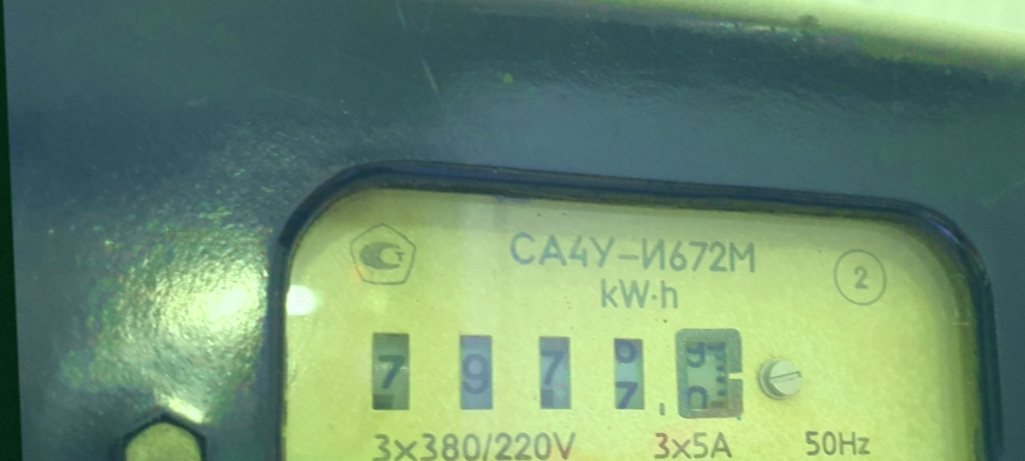0: (685, 381, 710, 412)
7: (373, 349, 409, 395), (612, 372, 644, 414), (539, 346, 569, 388)
9: (459, 350, 492, 398), (682, 338, 713, 371)
screen: (356, 304, 762, 448)
